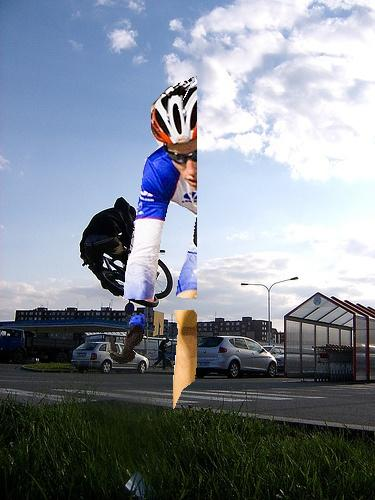tampered: (109, 75, 197, 409)
